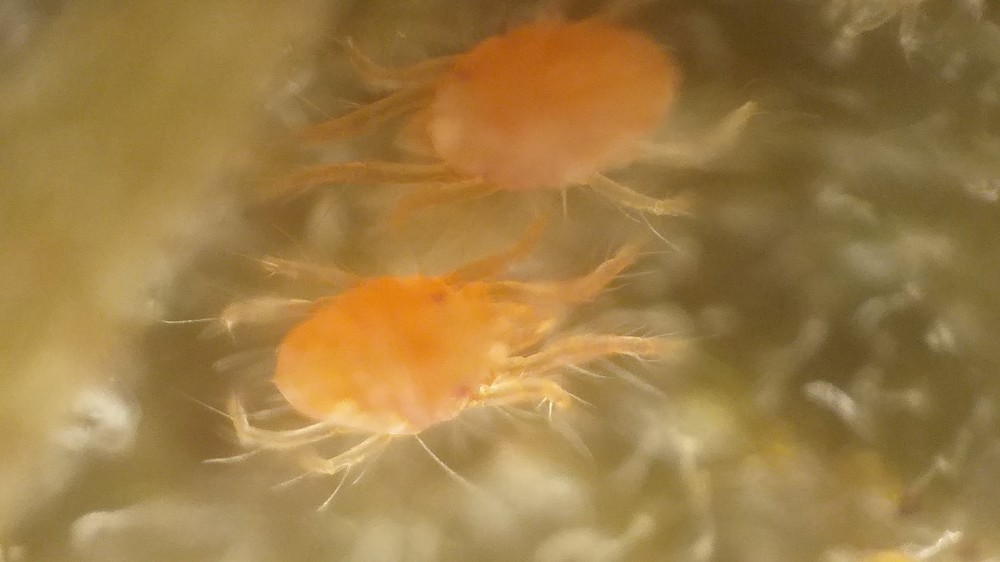Aracnido Rojo: (223, 231, 706, 502), (262, 13, 779, 242)
